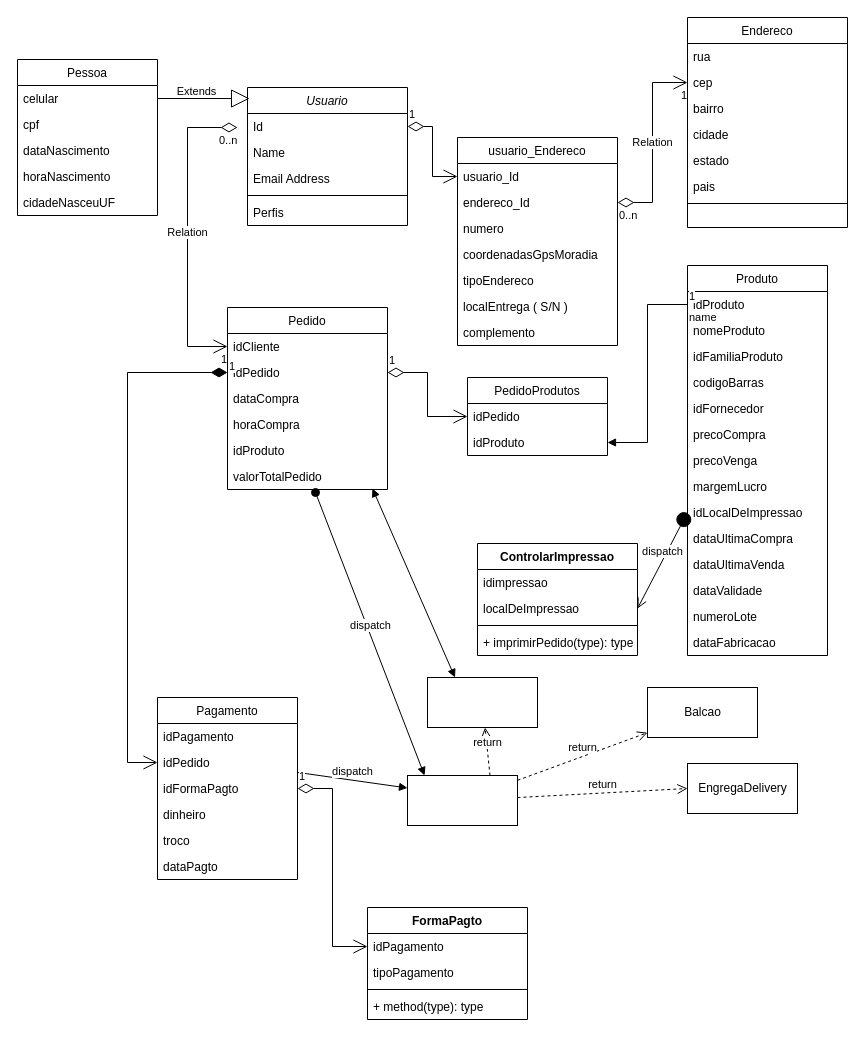
Image size: 865x1040. Some labels were removed from this diagram. The shapes that lost their labels are listed below. From the top down, each one's centre as x and y in pixels, then its label:
point (482, 702): Mesa
point (462, 800): Cozinha
